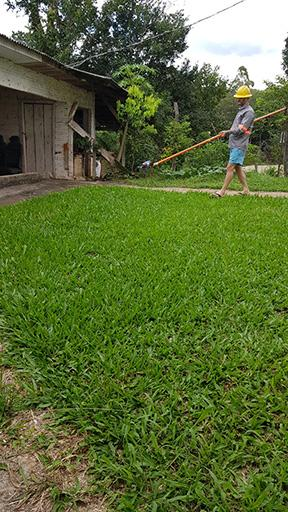Detector_Tensao_Contato: (136, 160, 153, 171)
Vara_Manobra: (152, 105, 286, 165)
